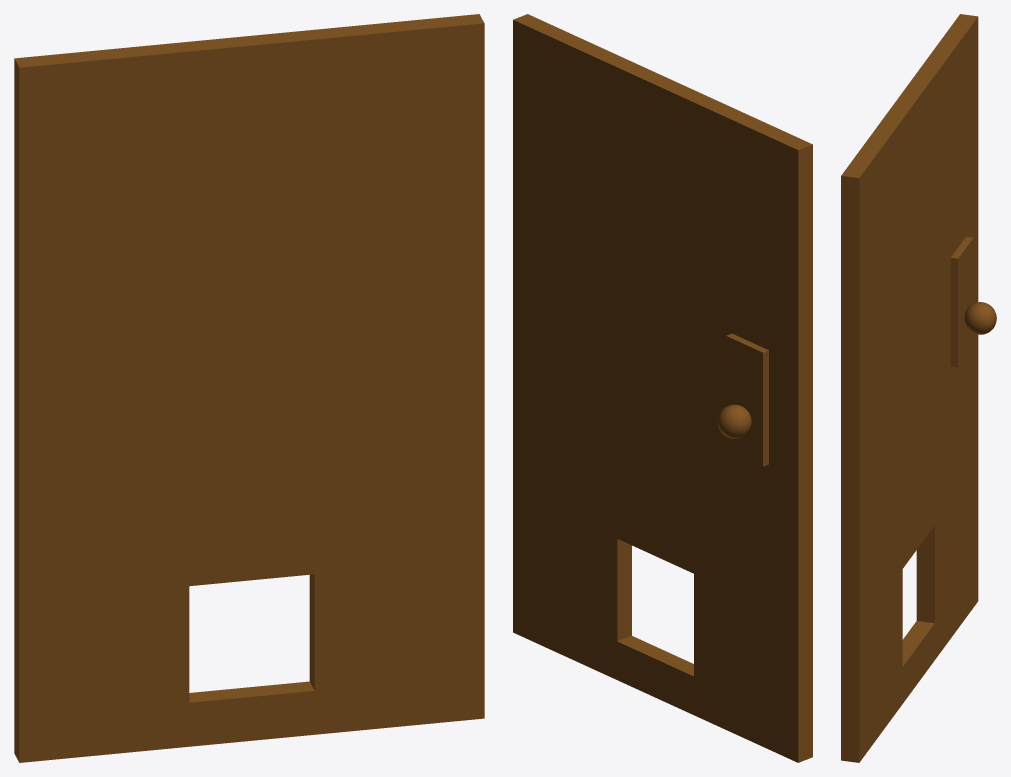
Rendered from door.fbx.
3 renders of one model, left to right at view 1: azimuth 30°, elevation 25°; view 2: azimuth 150°, elevation 25°; view 3: azimuth 270°, elevation 25°, orthographic. The views are drawn at different scales.
Visible parts, largest first — view 1: Door1; view 2: Door1; view 3: Door1.
Part boxes in pixels (box(x1,y1,x2,y2)): Door1: box(14, 14, 484, 762); Door1: box(513, 14, 812, 762); Door1: box(841, 14, 996, 762).
Size of the model in its own units: 138 by 229 by 55.38.
